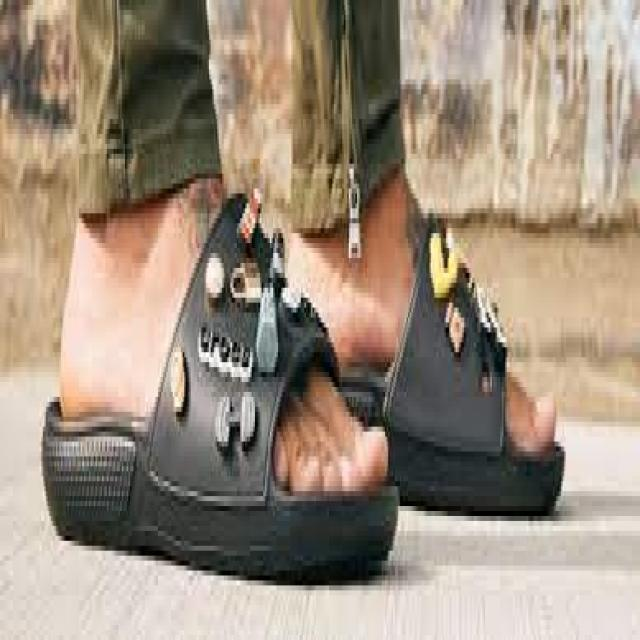No_Shoe: (52, 188, 400, 554)
